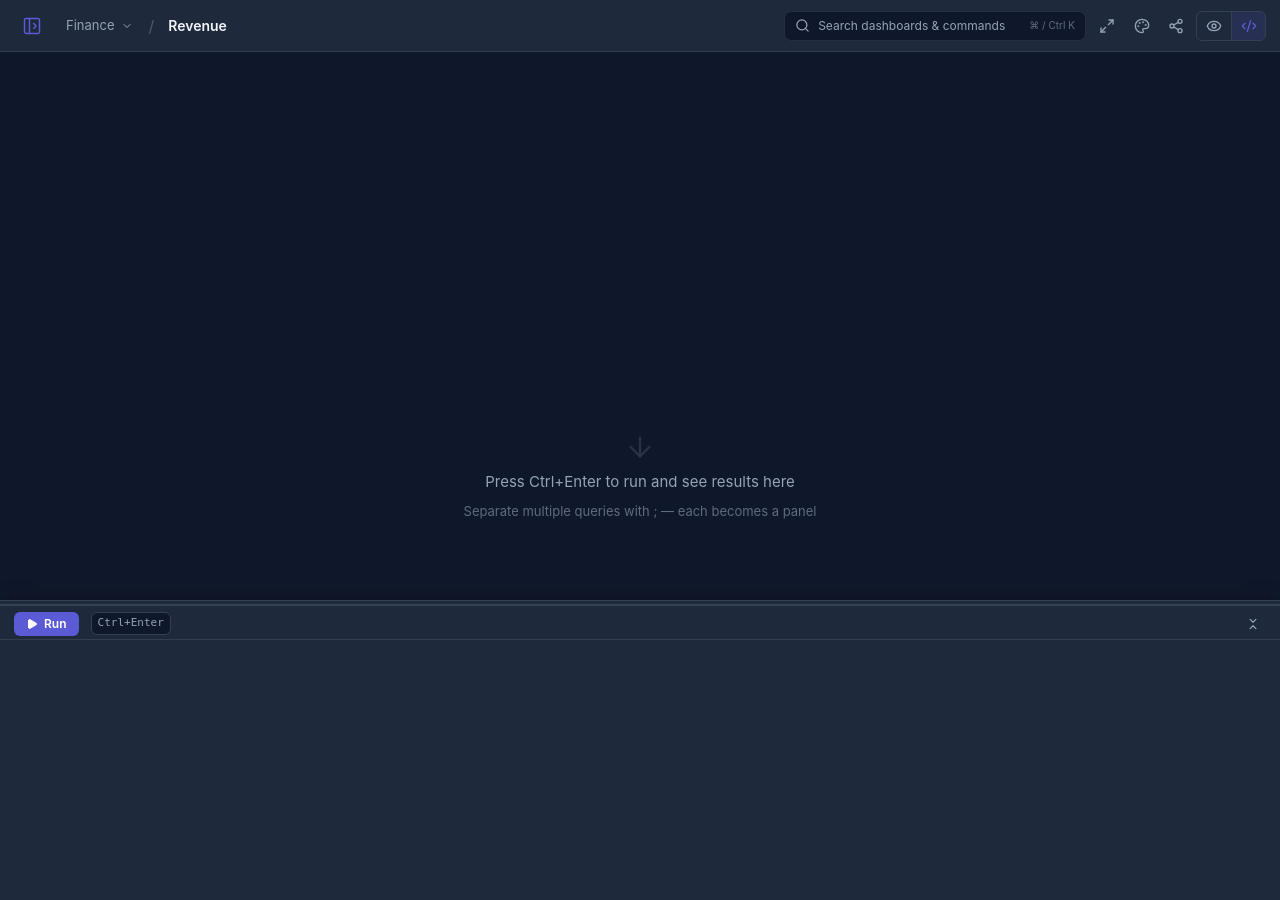
Scenario: / workspace navigation › does not capture typing shortcuts and keeps navigation preferences through focus mode
The image size is (1280, 900).
Click the button named "Show navigation": (32, 26) [14,8,50,44]
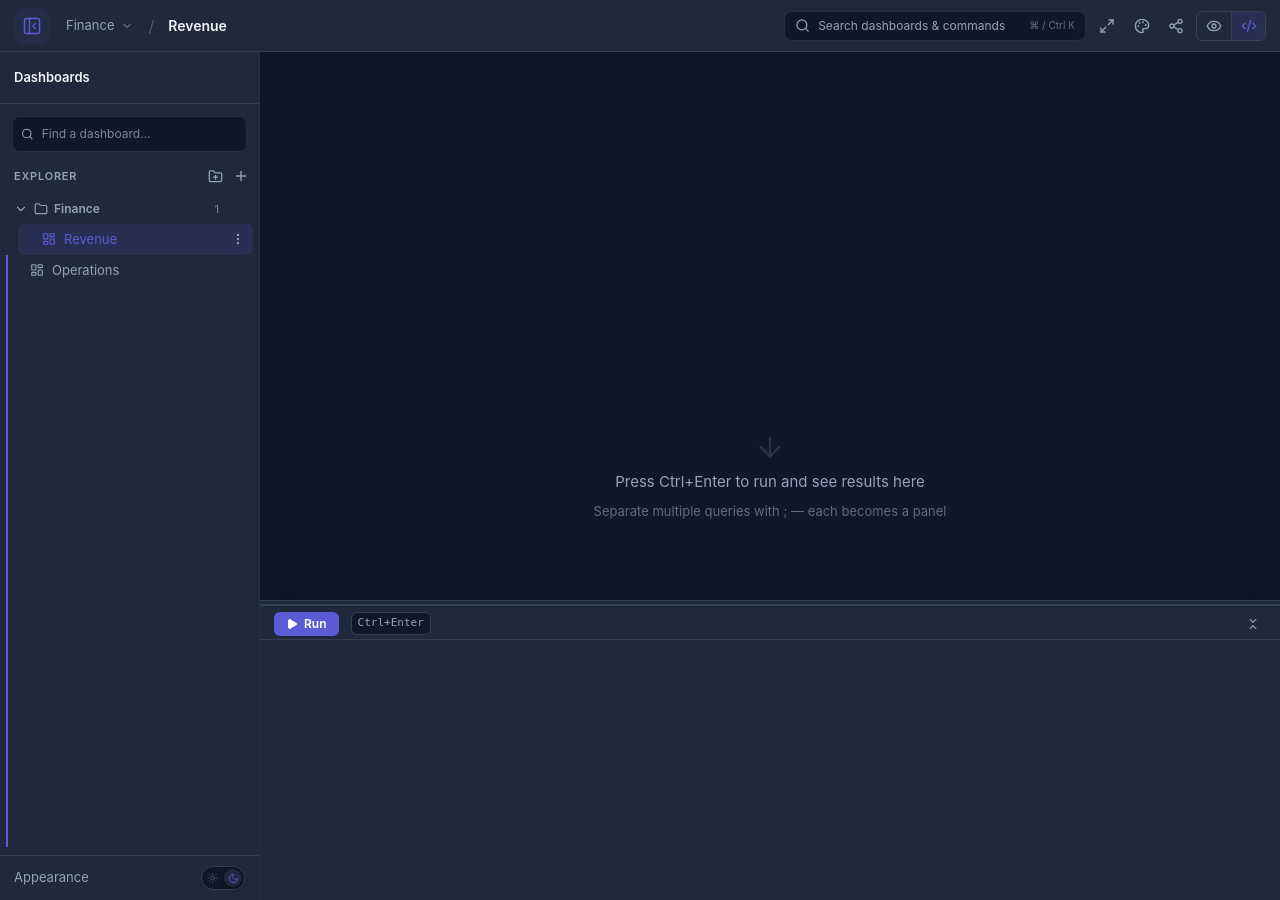
Press b in the search field labelled "Find a dashboard", box [42,125,238,143]
Press k in the search field labelled "Find a dashboard", box [42,125,238,143]
Click the button named "Enter focus mode": (1107, 26) [1092,10,1122,40]
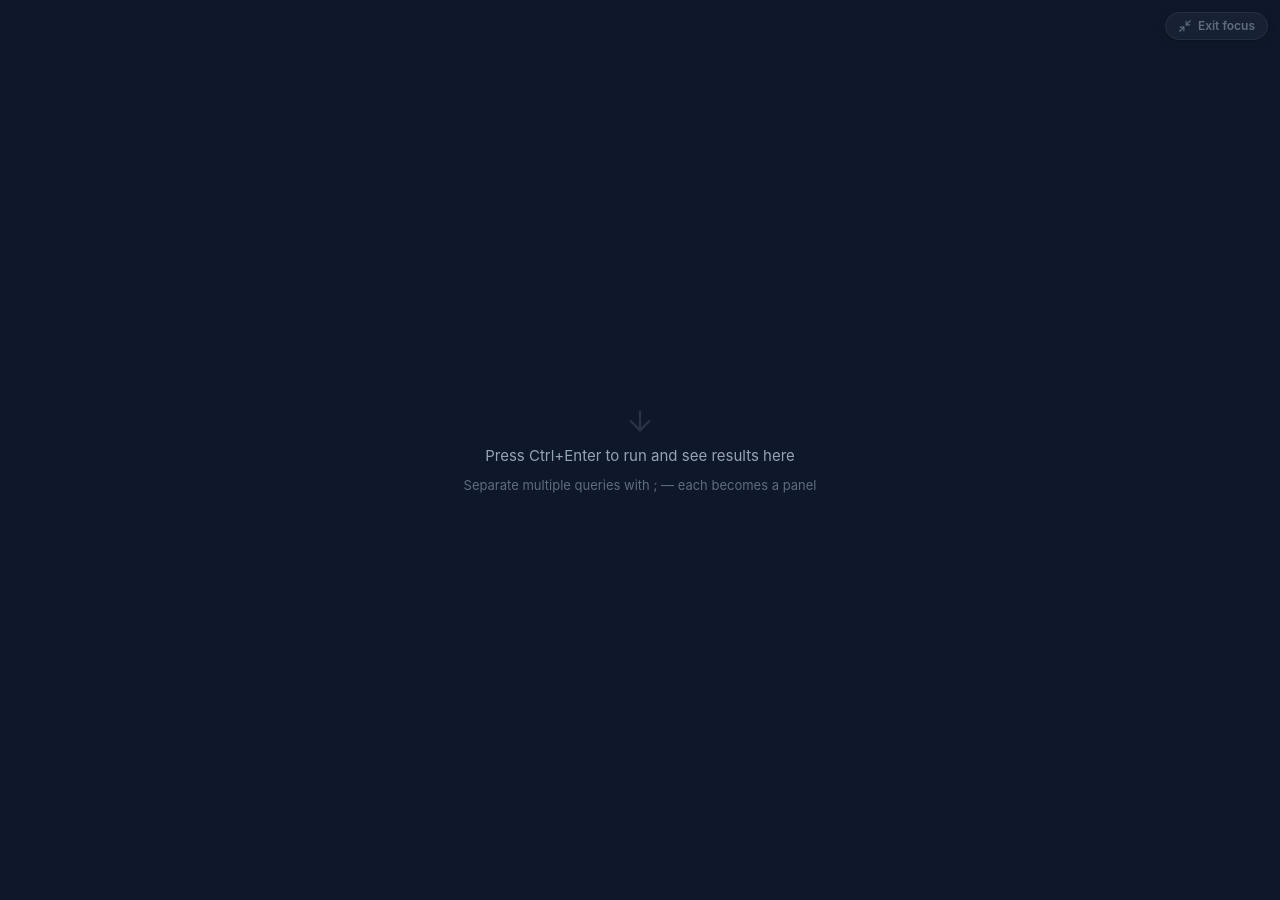
Expected: the navigation bar is gone
Press Escape in the button "Exit focus", box [1165,12,1268,40]
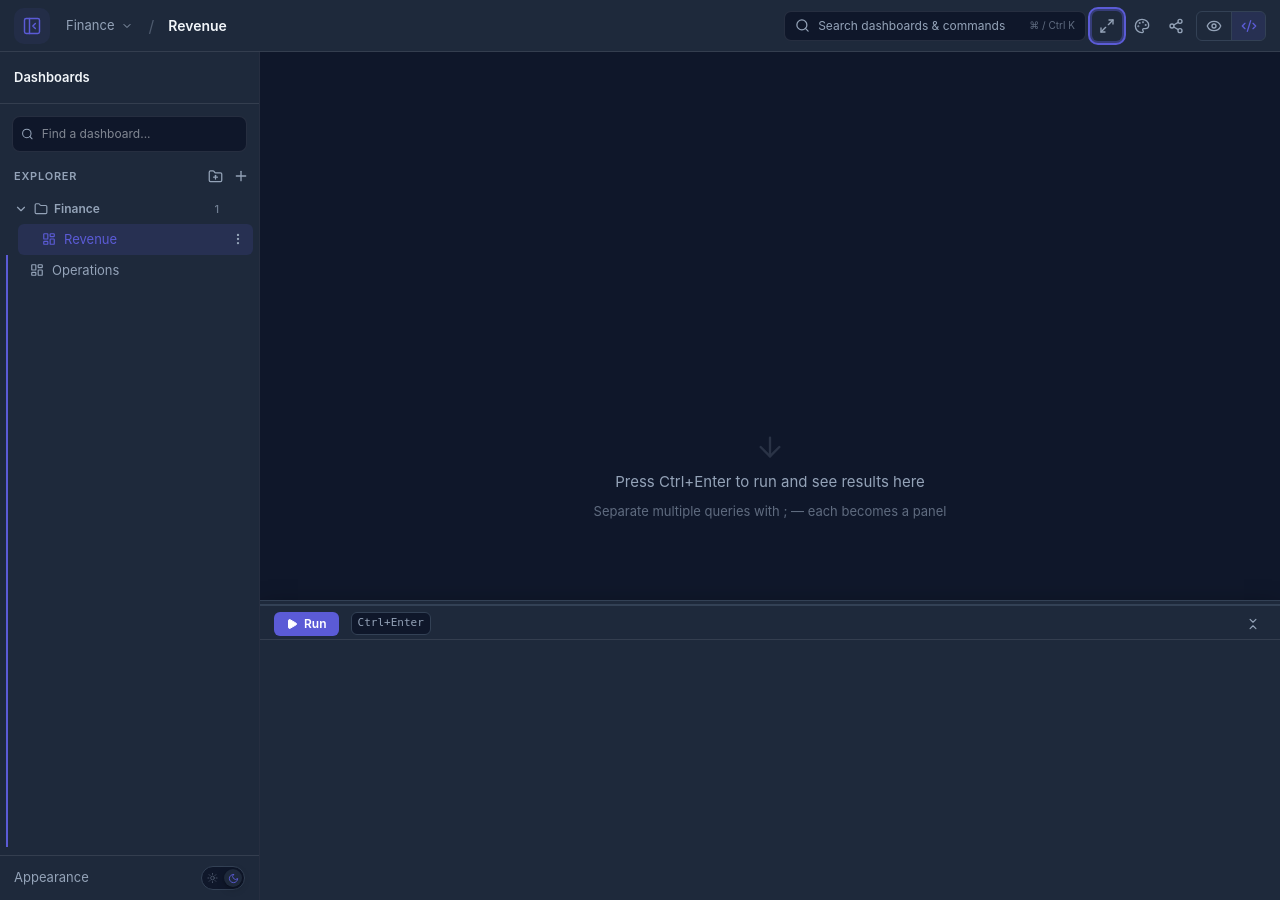
Expected: the navigation bar is shown, [0,52,259,899]
